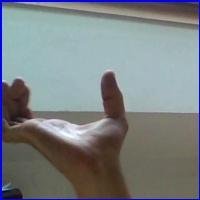B: (4, 66, 145, 183)
